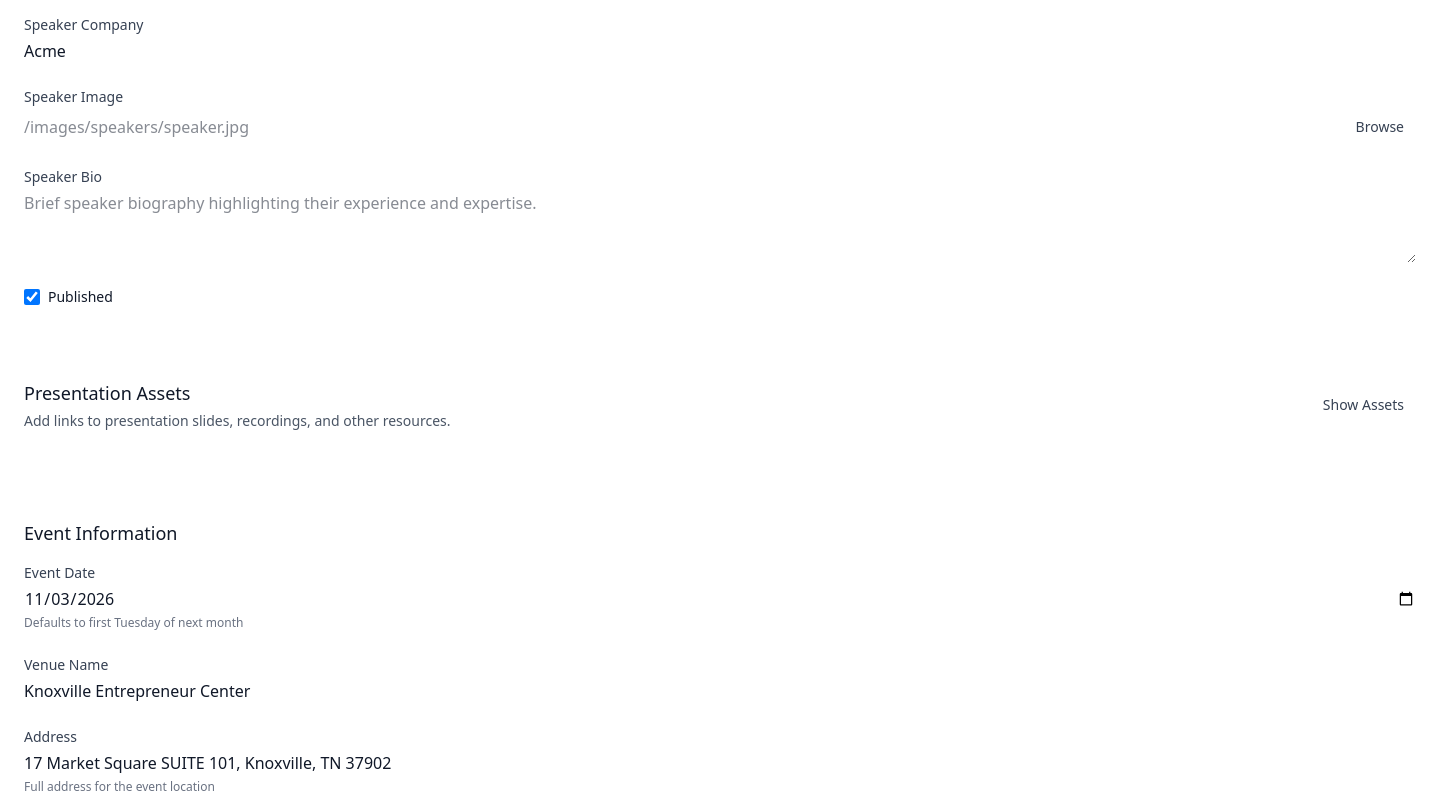
Scenario: BlogPostEditor - assets › loads and displays existing assets, formatting their size
(page scrolled)
Click the button "Show Assets": (1363, 405) [1311,389,1416,421]
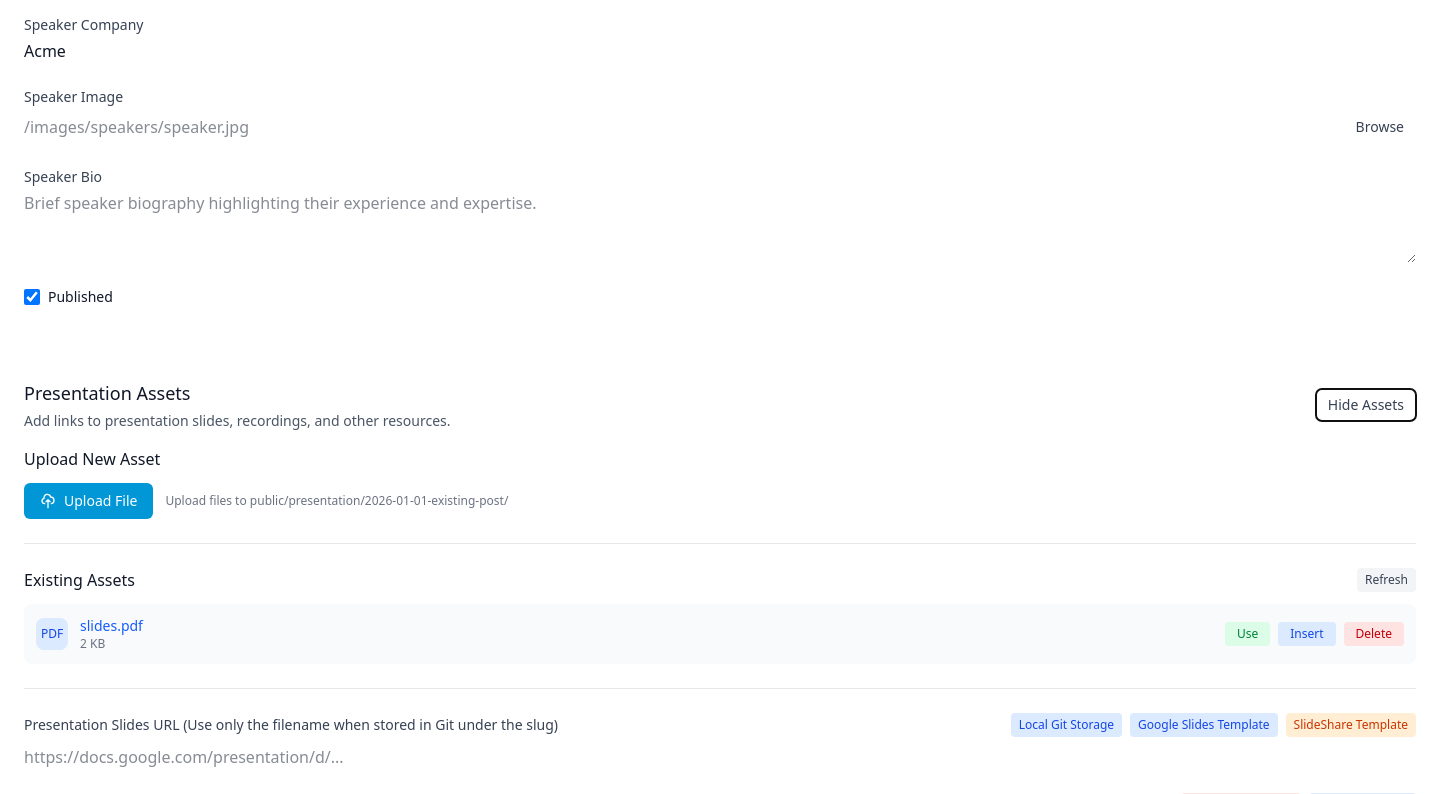
Expected: the link "slides.pdf" is shown, [80,616,143,635]
Expected: the text "2 KB" is shown, [80,635,105,652]
